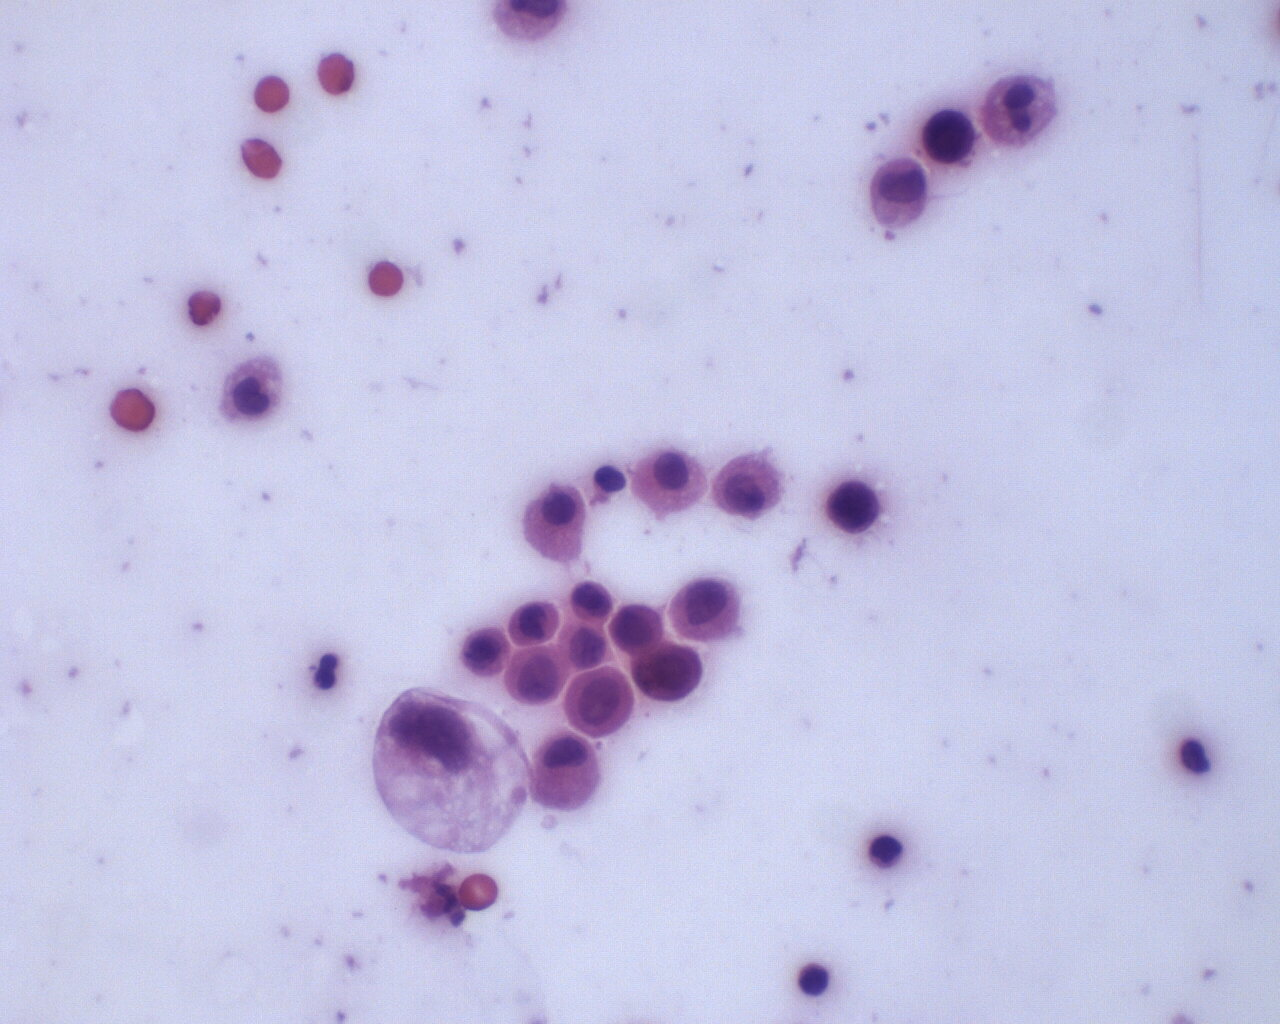ab: (667, 572, 747, 645), (566, 666, 639, 740), (633, 644, 702, 707), (505, 642, 568, 709), (918, 102, 983, 168), (824, 474, 884, 542), (607, 601, 668, 659)
histo: (370, 685, 536, 850), (981, 66, 1062, 155)
lymph: (797, 961, 830, 1000)
meso: (528, 734, 603, 815), (523, 478, 591, 566), (633, 447, 711, 520), (709, 451, 784, 523), (869, 154, 932, 233)
